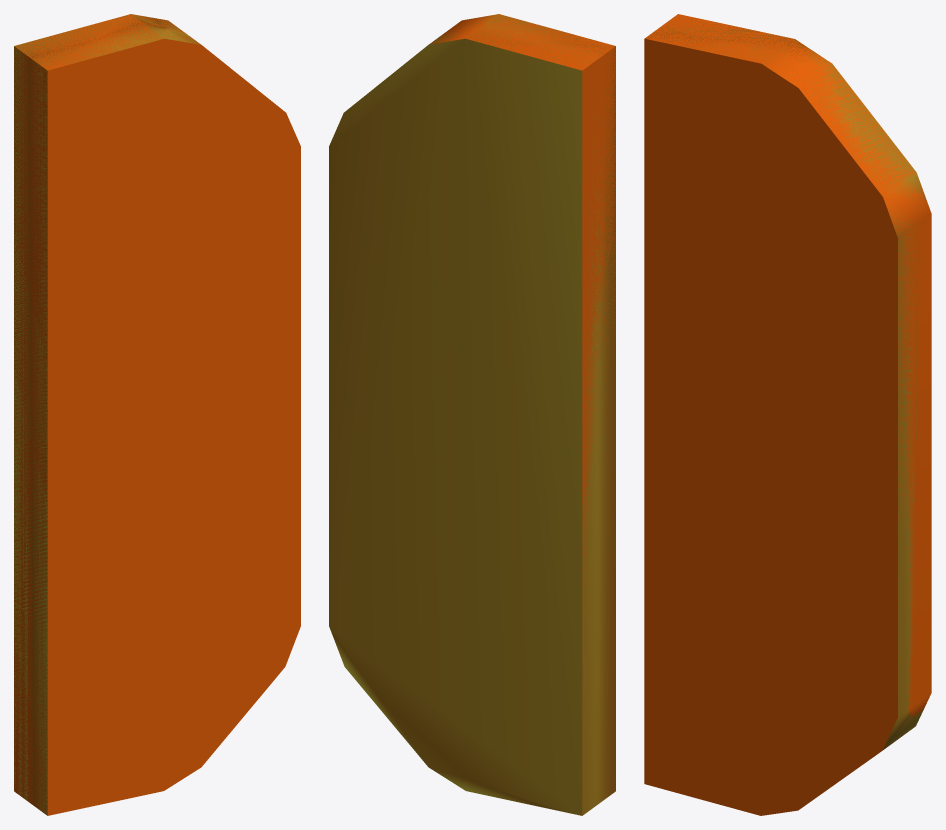
File: M_md_Stall3_cap_02.fbx
The picture shows the model from 3 angles, left to right: view 1: azimuth 30°, elevation 25°; view 2: azimuth 150°, elevation 25°; view 3: azimuth 330°, elevation 25°; orthographic projection.
Parts seen in each view (by area): view 1: M_md_Stall3_cap_02, M_md_Stall3_cap_02_col_01; view 2: M_md_Stall3_cap_02, M_md_Stall3_cap_02_col_01; view 3: M_md_Stall3_cap_02, M_md_Stall3_cap_02_col_01.
Part boxes in pixels (x1,y1,x2,y2): M_md_Stall3_cap_02: (14,14,300,815); M_md_Stall3_cap_02_col_01: (14,14,199,815); M_md_Stall3_cap_02: (329,14,615,815); M_md_Stall3_cap_02_col_01: (329,14,615,815); M_md_Stall3_cap_02: (644,14,931,815); M_md_Stall3_cap_02_col_01: (648,18,926,749).
Bounding box in the file's own units: 4.48 × 12.7 × 1.03.
